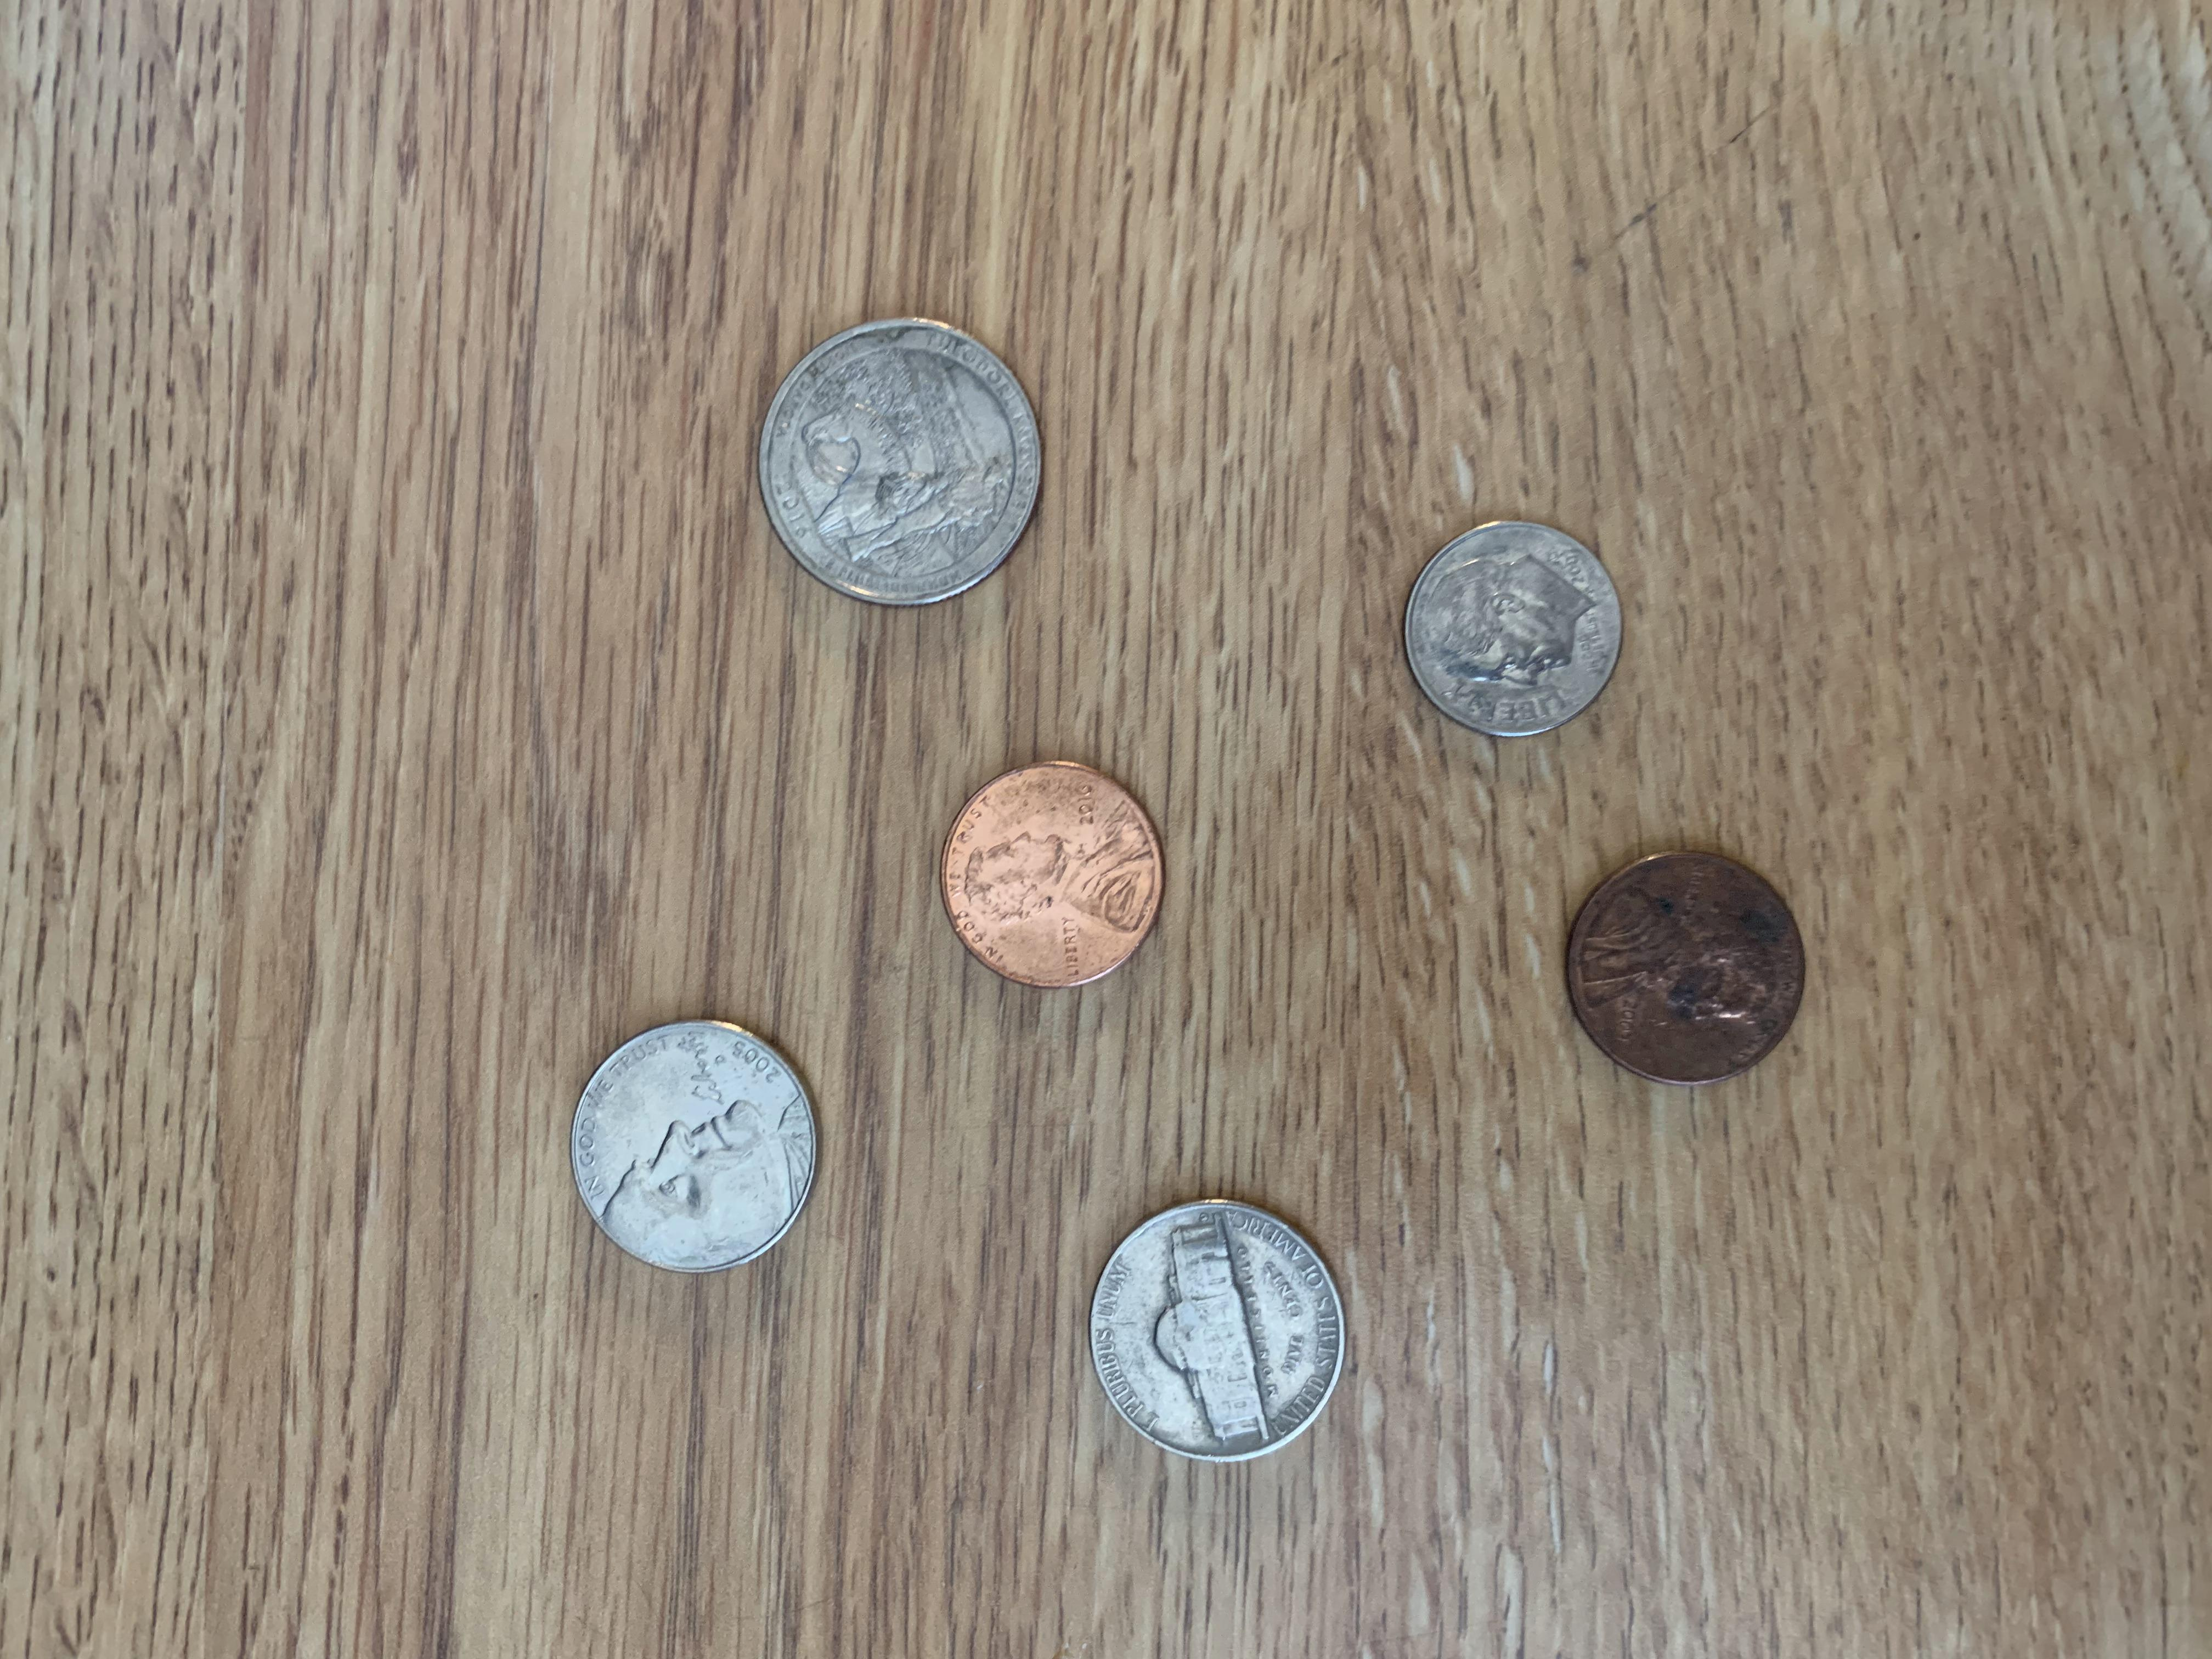Dime: (1395, 509, 1629, 741)
Nickel: (557, 1004, 836, 1277), (1082, 1192, 1353, 1473)
Penny: (1557, 840, 1811, 1094), (930, 751, 1167, 999)
Quarter: (749, 301, 1062, 613)
